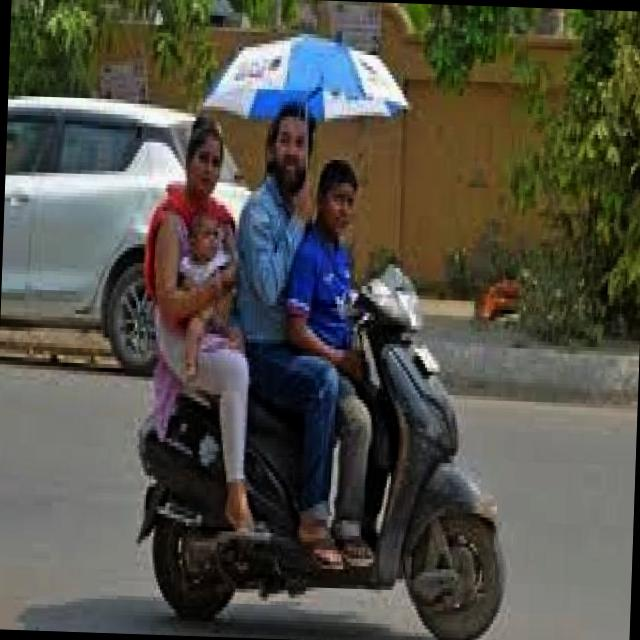motorcycle: (129, 247, 514, 640)
person: (130, 100, 276, 467), (218, 97, 348, 458), (272, 161, 389, 459), (154, 205, 244, 384)
rider_region: (126, 93, 523, 640)
